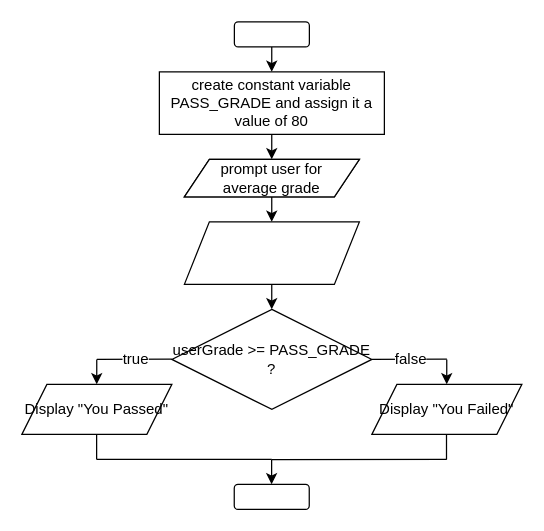
This 544x531 diagram has some shape labels left out. Each missing label, with the centre of its shape:
"end" belongs at point (271, 496).
"read input and assign value to userGrade" belongs at point (271, 252).
"start" belongs at point (271, 34).
